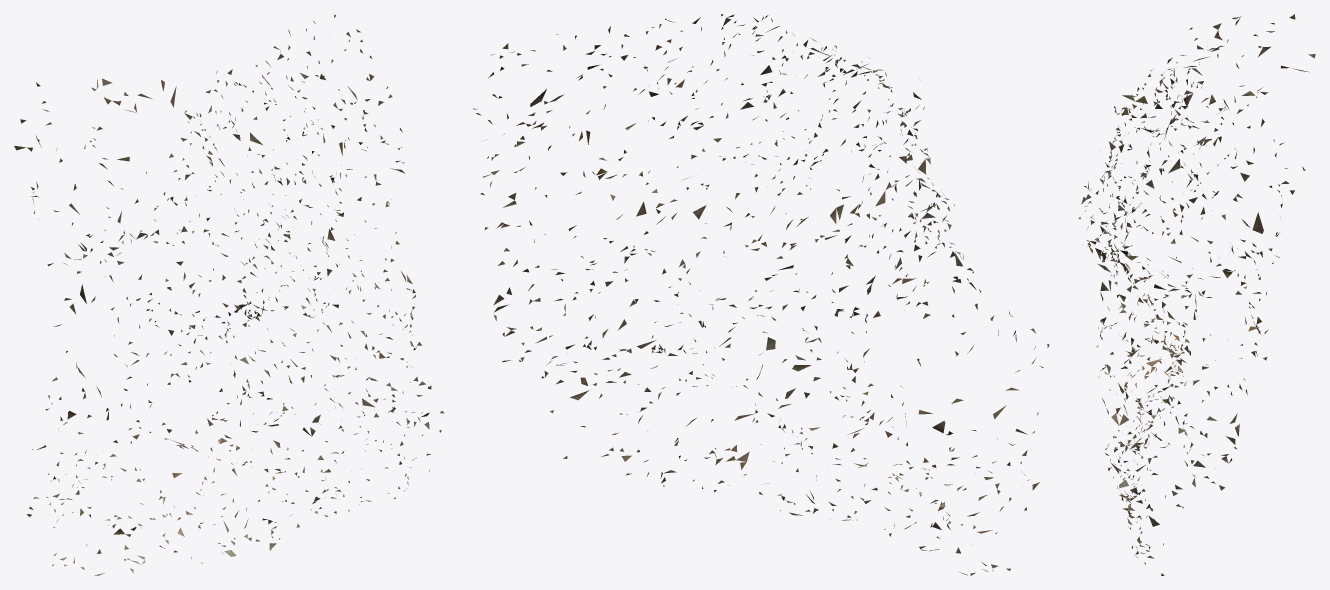
File: mountainside.glb
The picture shows the model from 3 angles, left to right: view 1: azimuth 30°, elevation 25°; view 2: azimuth 150°, elevation 25°; view 3: azimuth 270°, elevation 25°; orthographic projection. The views are drawn at different scales.
Visible parts, largest first — view 1: mountainside; view 2: mountainside; view 3: mountainside.
Boxes of the visible parts, x1,y1,x2,y2 form: mountainside: (14, 14, 444, 575); mountainside: (473, 14, 1049, 575); mountainside: (1078, 14, 1315, 575).
Size of the model in its own units: 10.15 by 10.44 by 5.09.
Materials: 1 (1 with a texture image).
